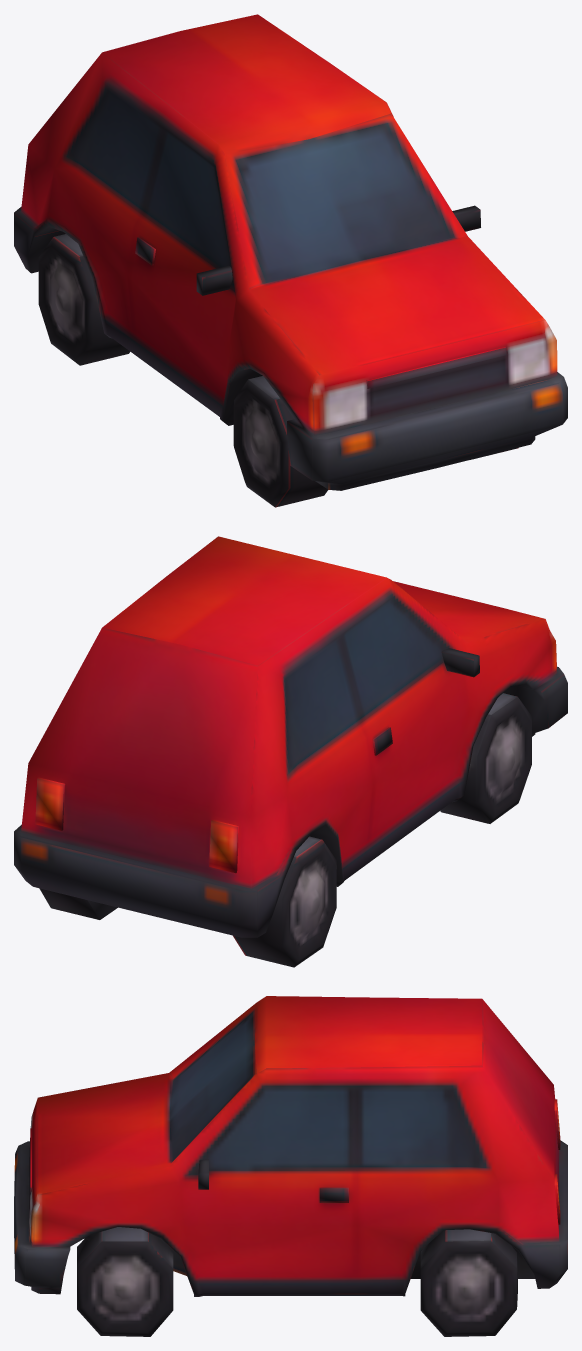
File: red_car.glb
The picture shows the model from 3 angles, top to bottom: view 1: azimuth 30°, elevation 25°; view 2: azimuth 150°, elevation 25°; view 3: azimuth 270°, elevation 25°; orthographic projection. The views are drawn at different scales.
Parts seen in each view (by area): view 1: tripo_node_3cf7e913-53ec-4f27-bb22-4ff42acb42bd; view 2: tripo_node_3cf7e913-53ec-4f27-bb22-4ff42acb42bd; view 3: tripo_node_3cf7e913-53ec-4f27-bb22-4ff42acb42bd.
Boxes of the visible parts, box(x1,y1,x2,y2) form: tripo_node_3cf7e913-53ec-4f27-bb22-4ff42acb42bd: box(14, 14, 567, 507); tripo_node_3cf7e913-53ec-4f27-bb22-4ff42acb42bd: box(14, 536, 567, 967); tripo_node_3cf7e913-53ec-4f27-bb22-4ff42acb42bd: box(14, 996, 567, 1336).
Bounding box in the file's own units: 0.5098 × 0.5059 × 0.998.
1 material, 1 textured.
